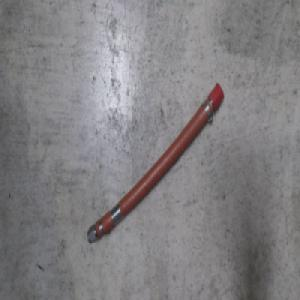Hose: (87, 86, 226, 249)
